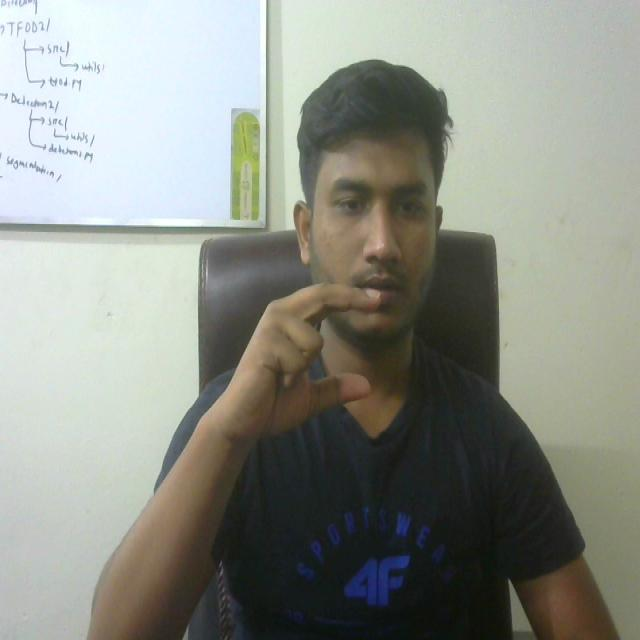No: (215, 263, 384, 452)
